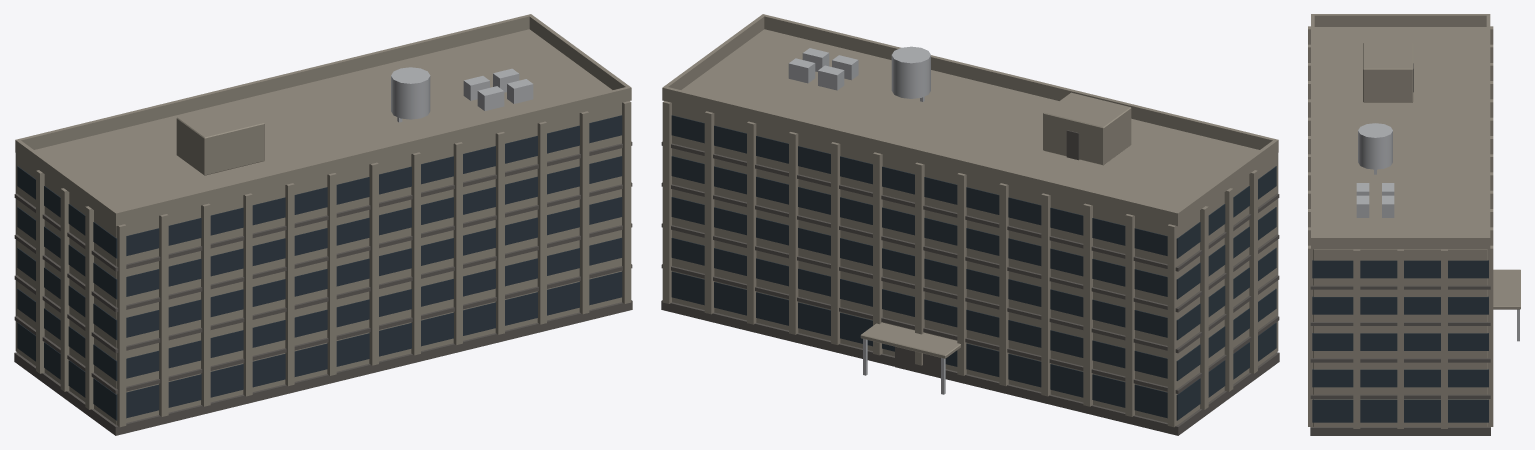
File: building_block.glb
3 views of the same model, side by side, from view 1: azimuth 30°, elevation 25°; view 2: azimuth 150°, elevation 25°; view 3: azimuth 270°, elevation 25° (orthographic). The views are drawn at different scales.
Parts seen in each view (by area): view 1: building_block; view 2: building_block; view 3: building_block.
Part boxes in pixels (left/top/right/bottom): building_block: left=14, top=14, right=632, bottom=435; building_block: left=661, top=14, right=1279, bottom=435; building_block: left=1308, top=14, right=1520, bottom=435.
Bounding box in the file's own units: 42.78 × 19.8 × 16.99.
